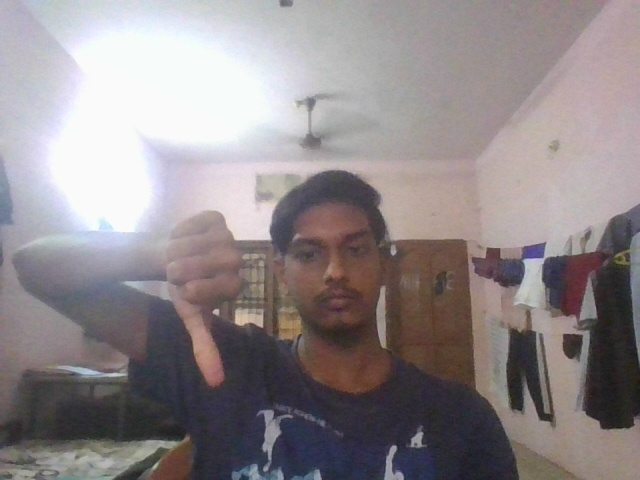thumbsdown: (160, 204, 253, 392)
